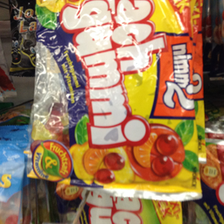candy: (36, 1, 204, 199)
